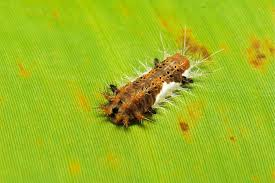Pest! (nettle_caterpillar): (90, 40, 213, 130)
